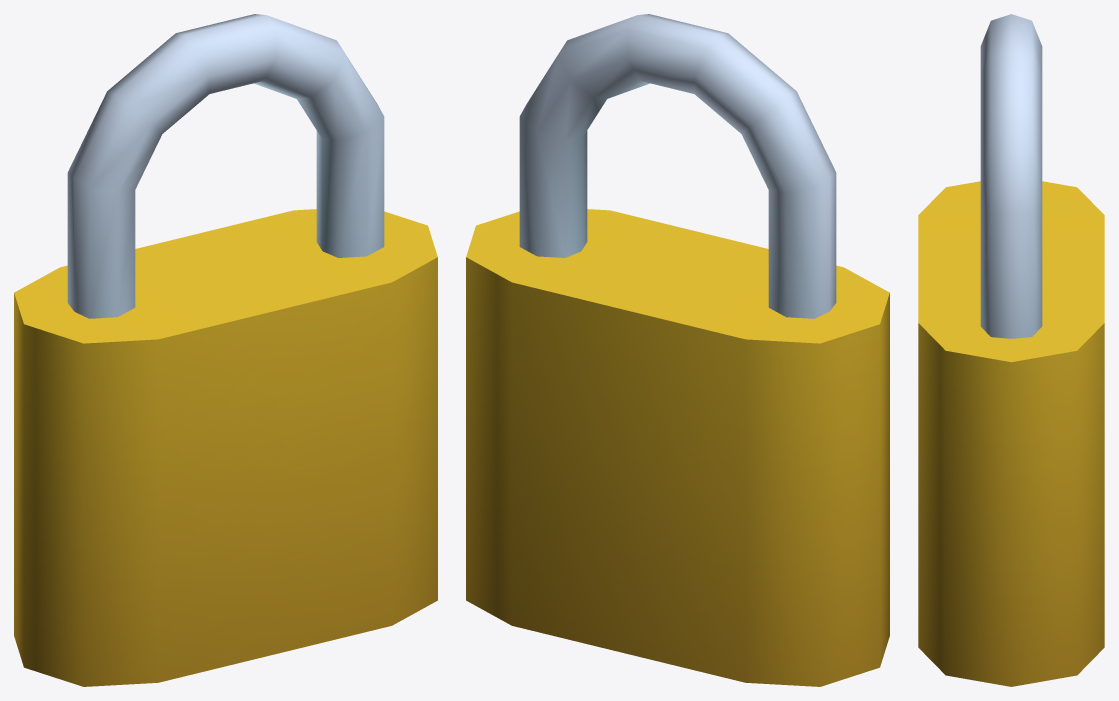
The model's file is Lock.fbx.
3 renders of one model, left to right at view 1: azimuth 30°, elevation 25°; view 2: azimuth 150°, elevation 25°; view 3: azimuth 270°, elevation 25°, orthographic. The views are drawn at different scales.
Parts seen in each view (by area): view 1: Lock; view 2: Lock; view 3: Lock.
Part boxes in pixels (x1,y1,x2,y2): Lock: (14, 14, 437, 686); Lock: (466, 14, 889, 686); Lock: (918, 14, 1104, 686).
Bounding box in the file's own units: 2 × 2.81 × 0.8434.
